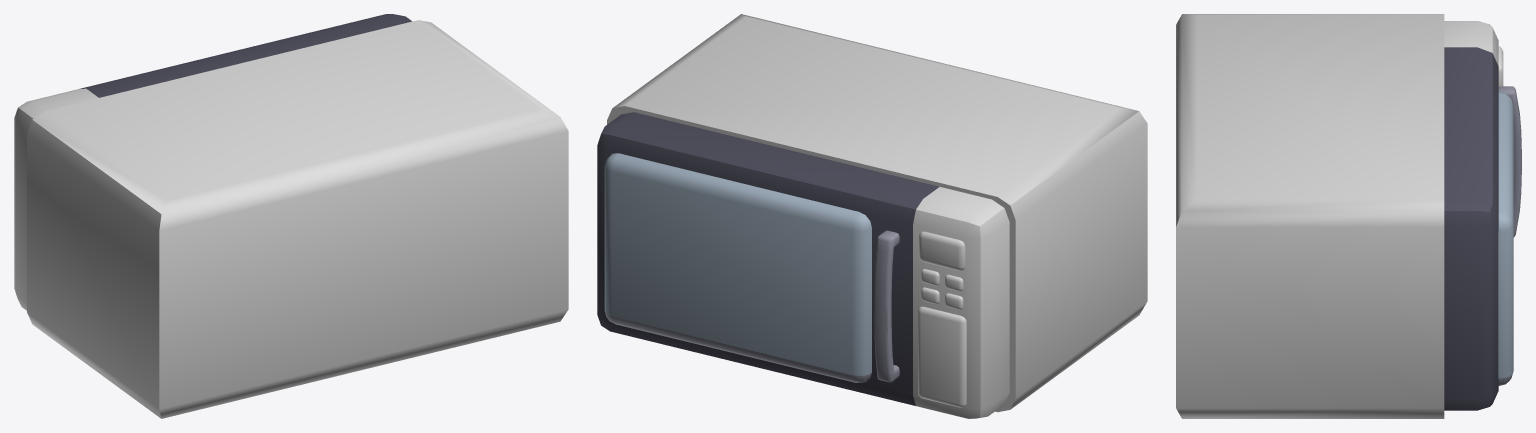
Rendered from microndas.fbx.
3 views of the same model, side by side, from view 1: azimuth 30°, elevation 25°; view 2: azimuth 150°, elevation 25°; view 3: azimuth 270°, elevation 25° (orthographic).
Parts seen in each view (by area): view 1: microndas.001, micropuerta.001; view 2: microndas.001, micropuerta.001; view 3: microndas.001, micropuerta.001.
Part boxes in pixels (<box>): microndas.001: <box>14,20,568,418</box>; micropuerta.001: <box>80,14,411,97</box>; microndas.001: <box>607,14,1147,418</box>; micropuerta.001: <box>597,112,939,405</box>; microndas.001: <box>1176,14,1503,418</box>; micropuerta.001: <box>1444,47,1521,410</box>.
Bounding box in the file's own units: 161 × 80.95 × 116.
